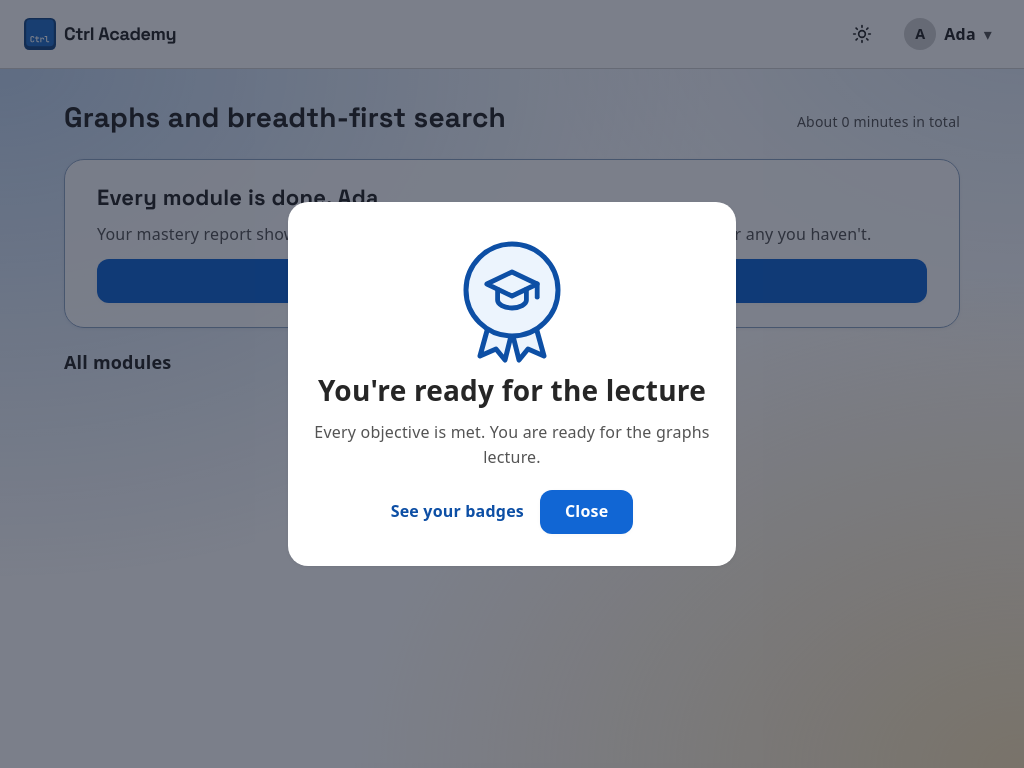
Badge announcements › celebrates being ready for the lecture in a dialog
Click the button "Close" at (587, 512), box [540,490,633,534]
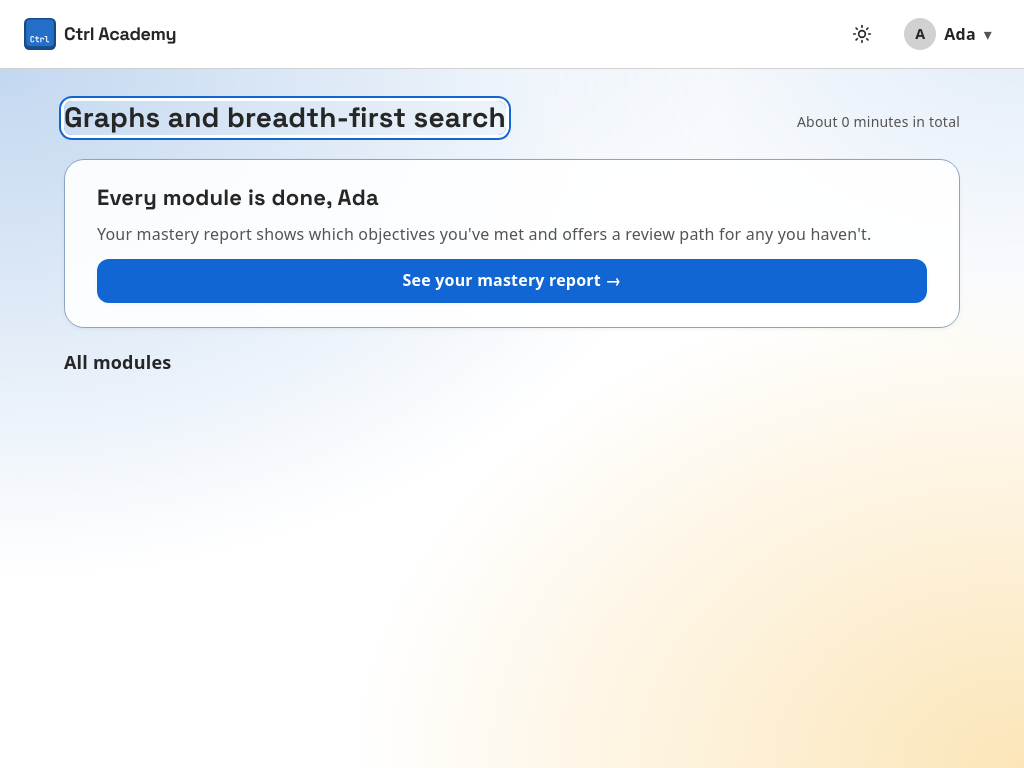
Check: the dialog is gone
